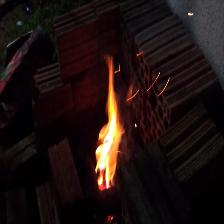fire: (77, 49, 163, 196)
